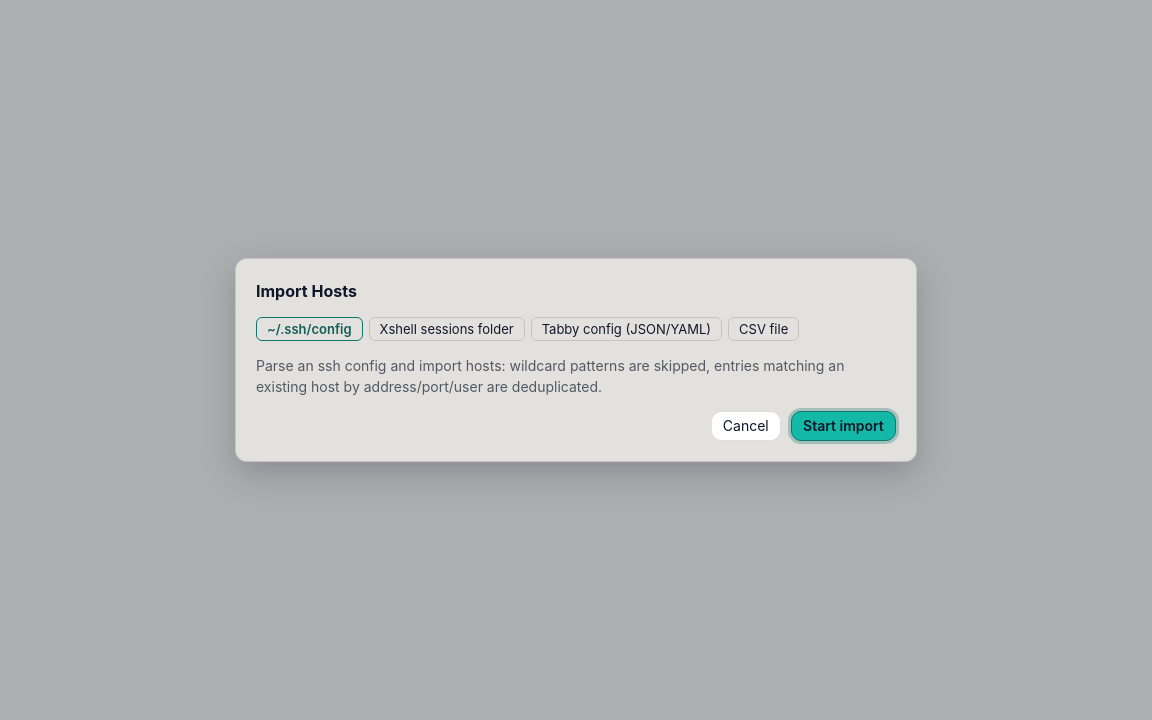
Test: ImportDialog › 零新增时显示 addedZero 文案
What coordinates should you click on to do the following:
click the button with test id "import-start"
I would click on:
 (843, 426)
Its box is [791,410,896,441].
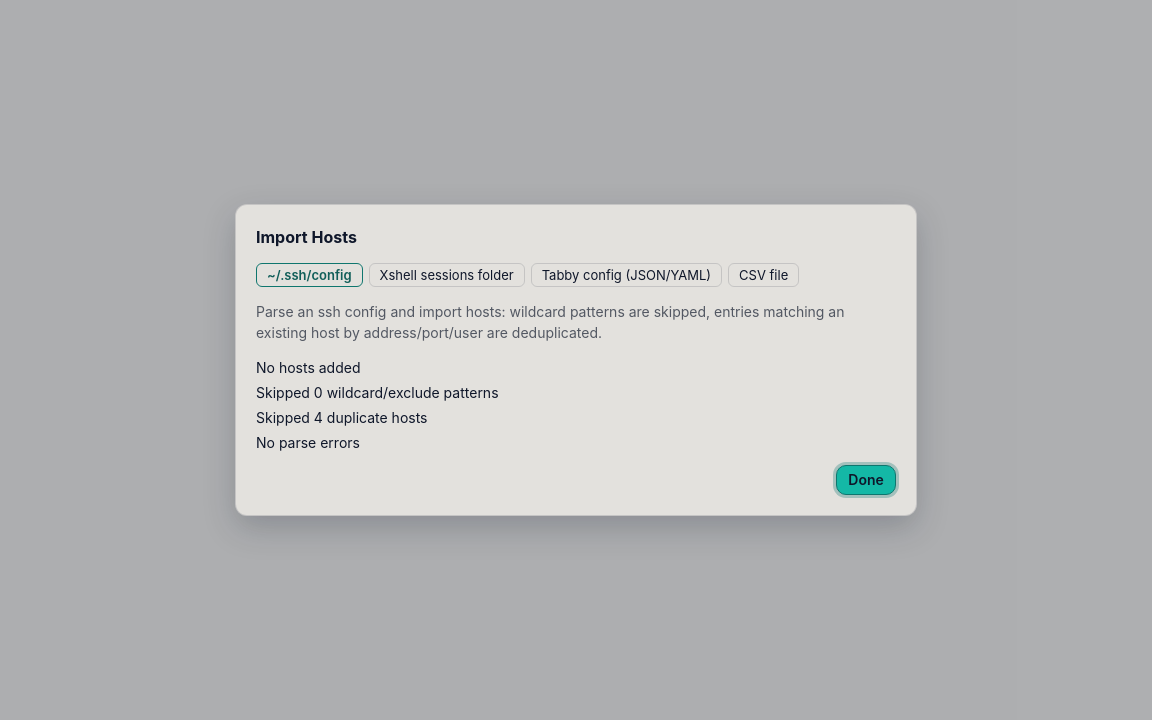
Check: the element with test id "import-report" is shown, box [256,358,498,450]
Check: the element with test id "import-report" shows "No hosts added", box [256,358,360,376]
Check: the element with test id "import-report" shows "No parse errors", box [256,434,360,450]
